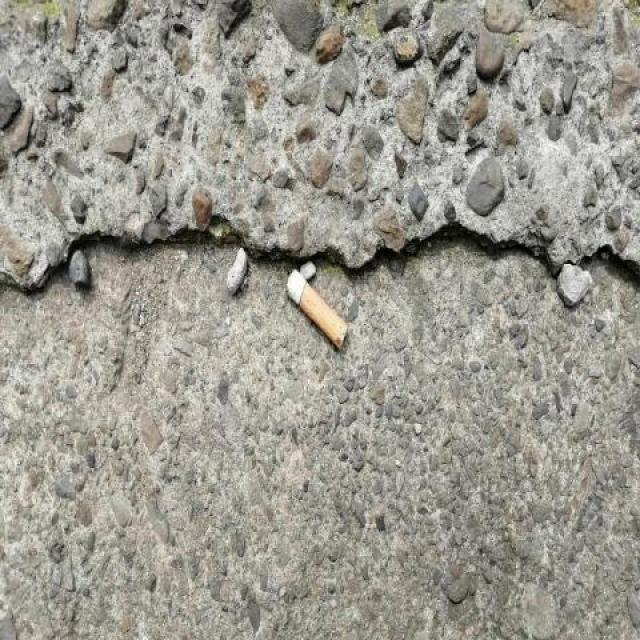non-organic waste: (279, 264, 353, 357)
